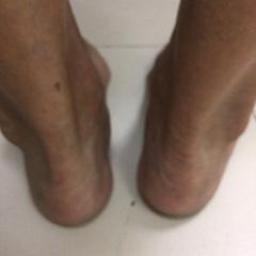Back View -Both Feet-: (3, 15, 253, 236)
